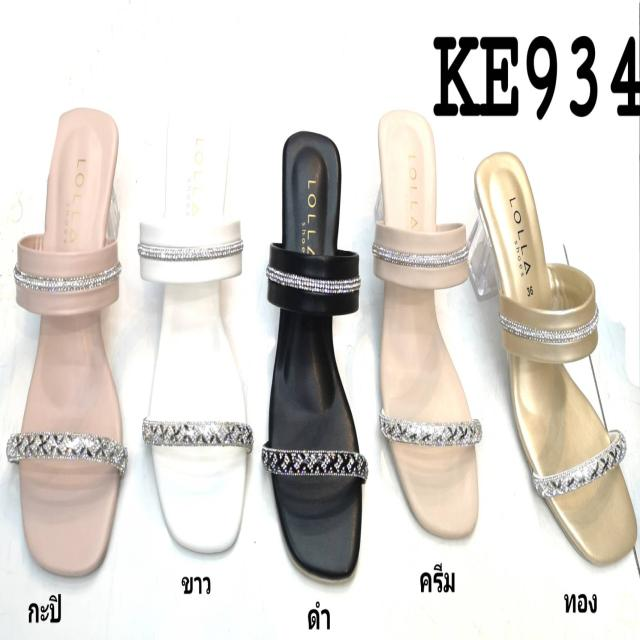black: (264, 130, 364, 584)
cream: (366, 103, 483, 535)
gold: (474, 147, 636, 565)
kapi: (13, 107, 126, 571)
white: (138, 118, 250, 553)
